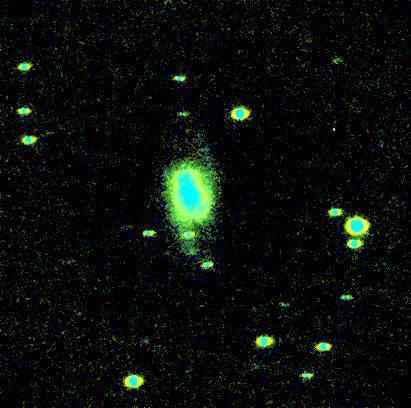star: (177, 238, 207, 268)
